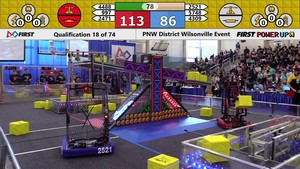cube: (201, 134, 233, 162), (141, 154, 181, 169), (9, 121, 30, 135), (234, 95, 253, 110), (201, 107, 214, 118), (88, 105, 101, 116), (187, 70, 198, 82), (104, 101, 117, 111), (197, 73, 207, 84), (34, 101, 43, 108)
